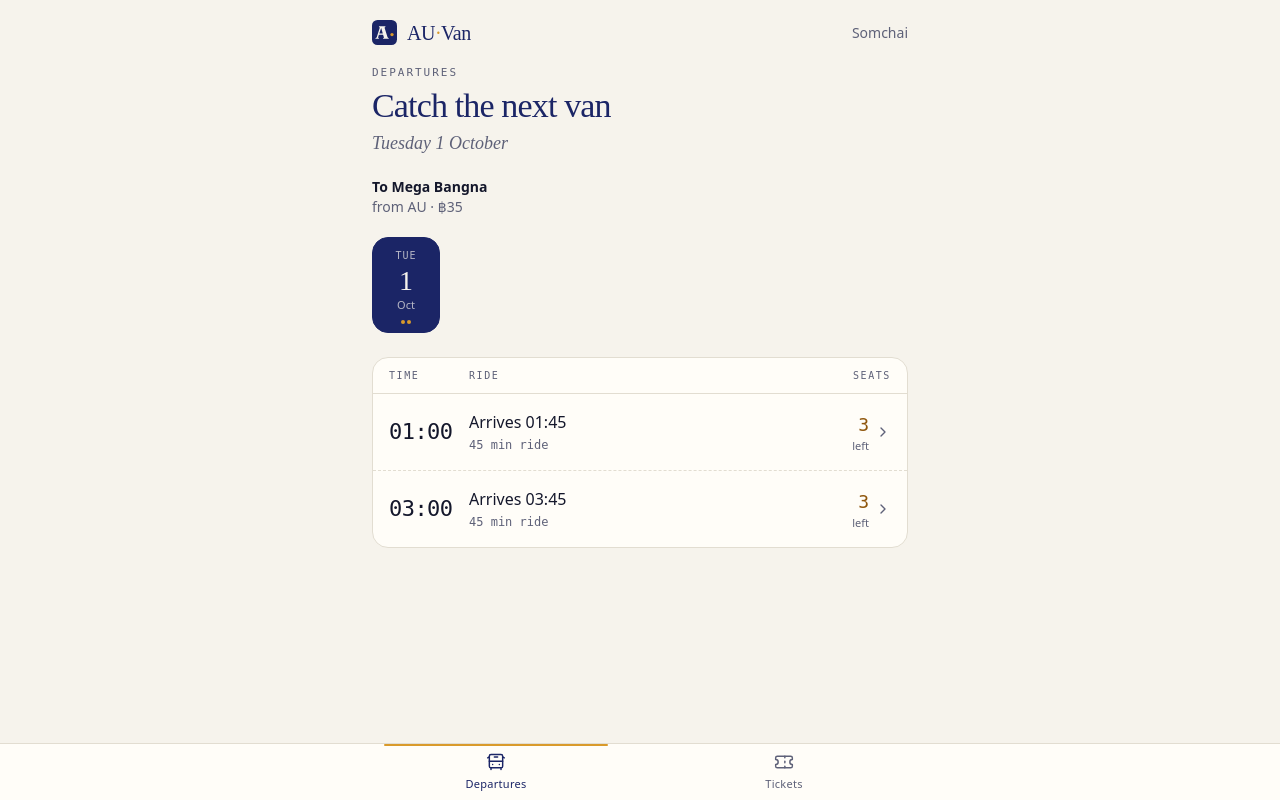
Test: Student app › drops the withdrawn trip from the list the student lands back on
Click the button with aria-label "Mega Bangna" at (421, 432), box x1=373 y1=394 x2=907 y2=470
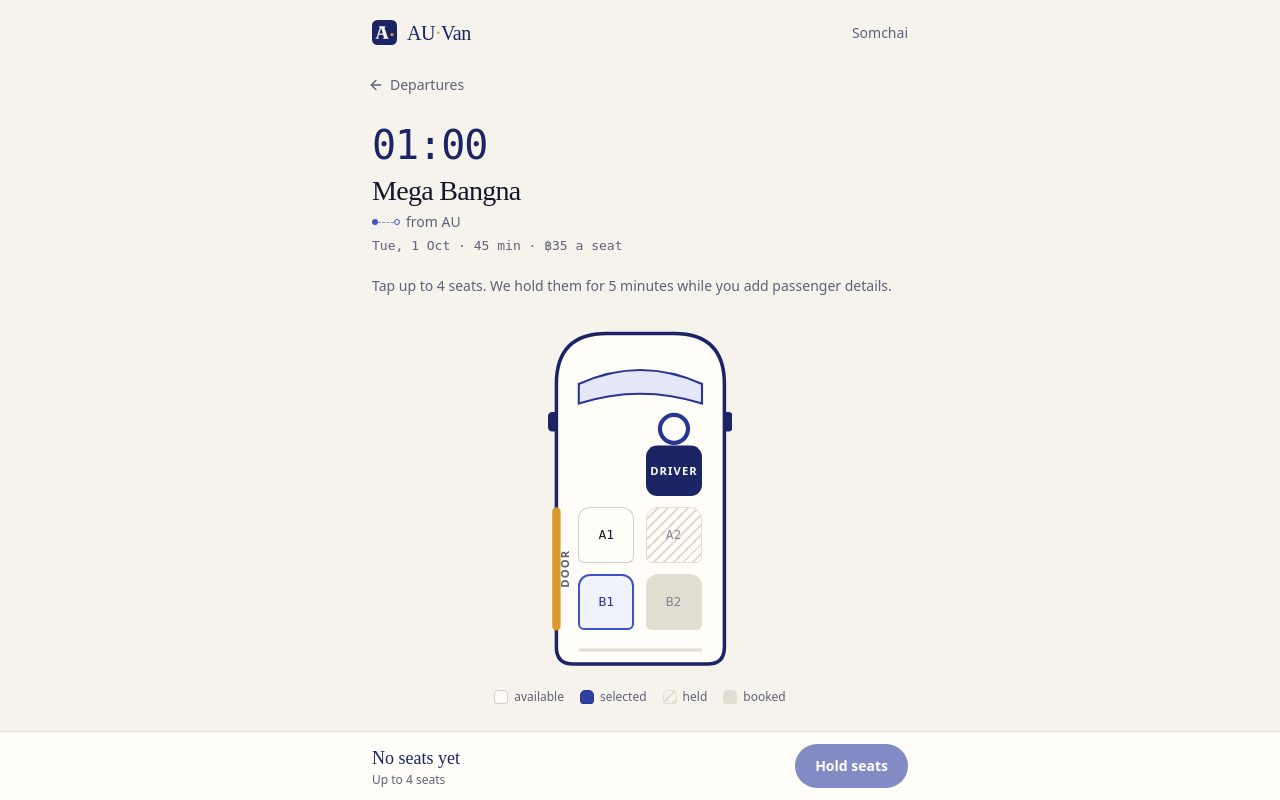
Click the button named "Seat A1, available" at (606, 535), box x1=578 y1=507 x2=634 y2=563
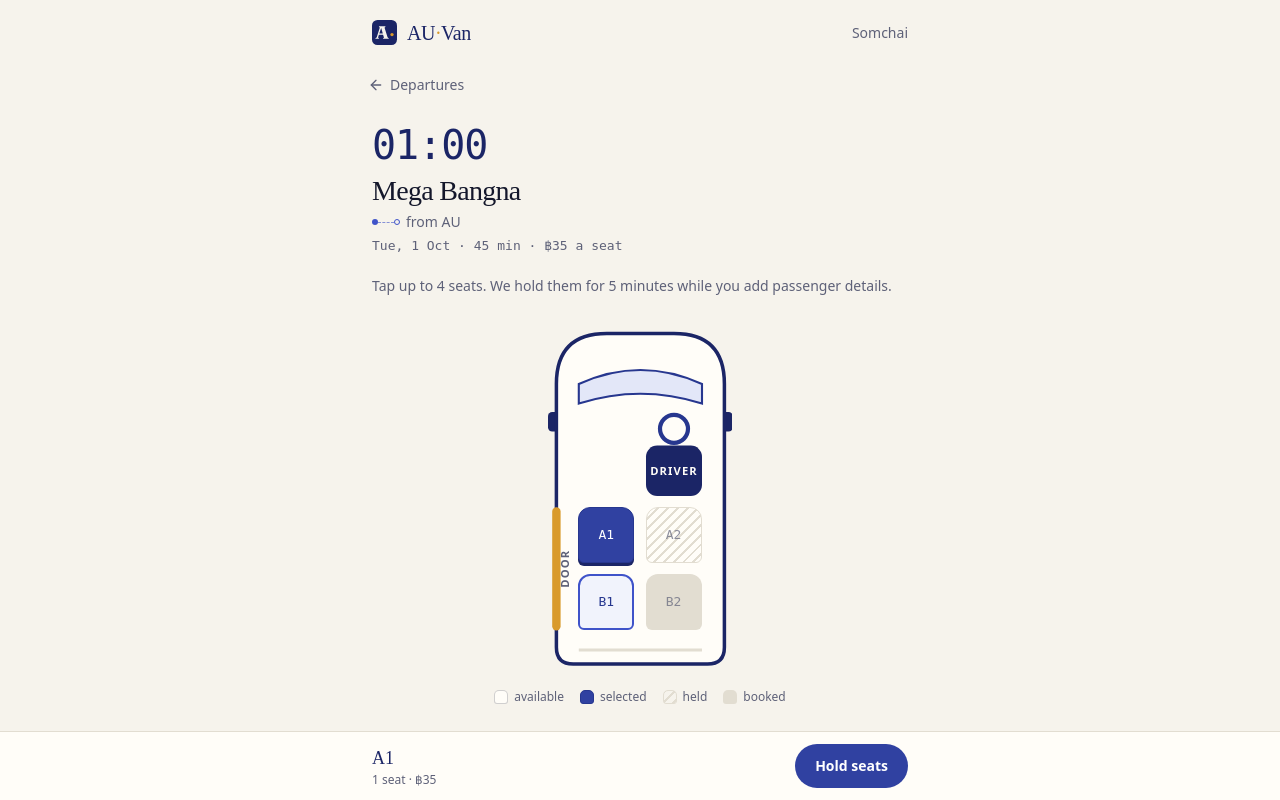
Click the button "Hold seats" at (852, 766), box x1=795 y1=744 x2=908 y2=788
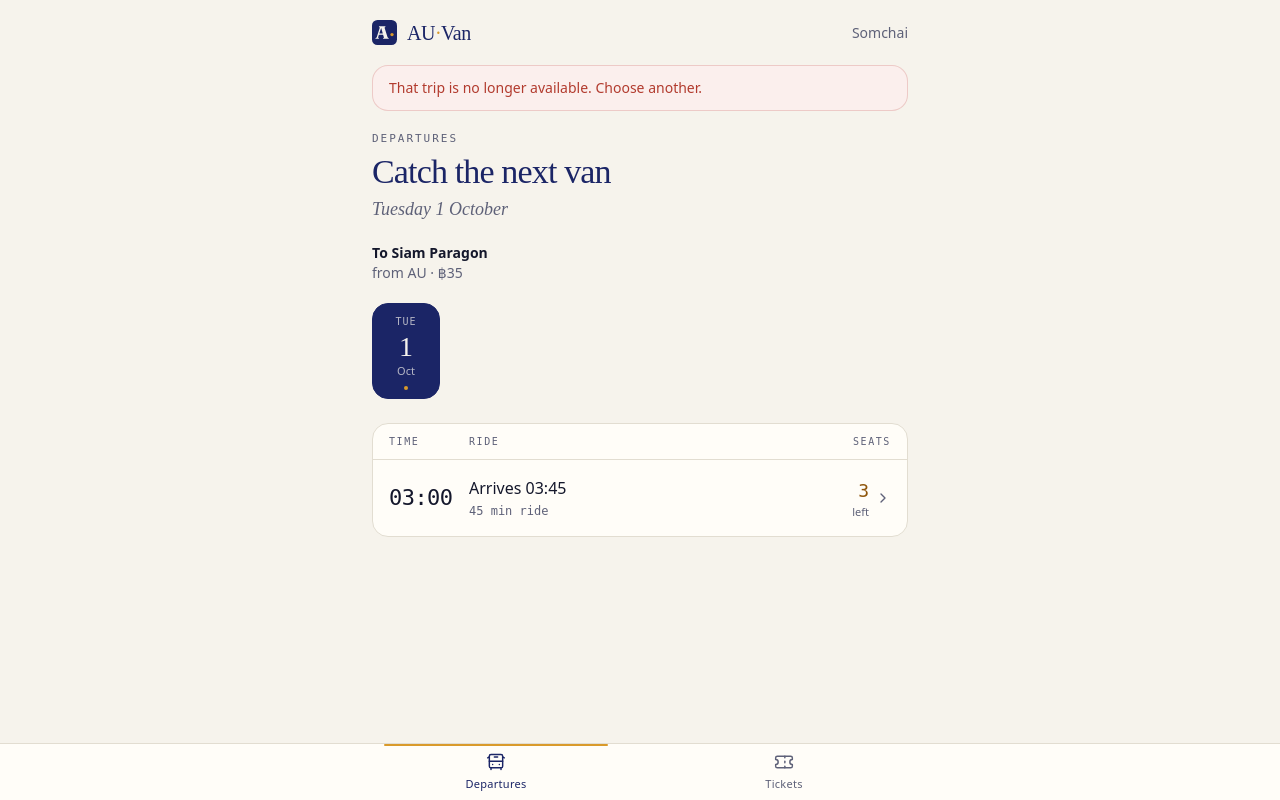
Check: the text "That trip is no longer available. Choose another." is shown, box x1=372 y1=65 x2=908 y2=111
Check: the heading "Mega Bangna" is gone
Check: the button with aria-label "Siam Paragon" is shown, box x1=373 y1=460 x2=907 y2=536
